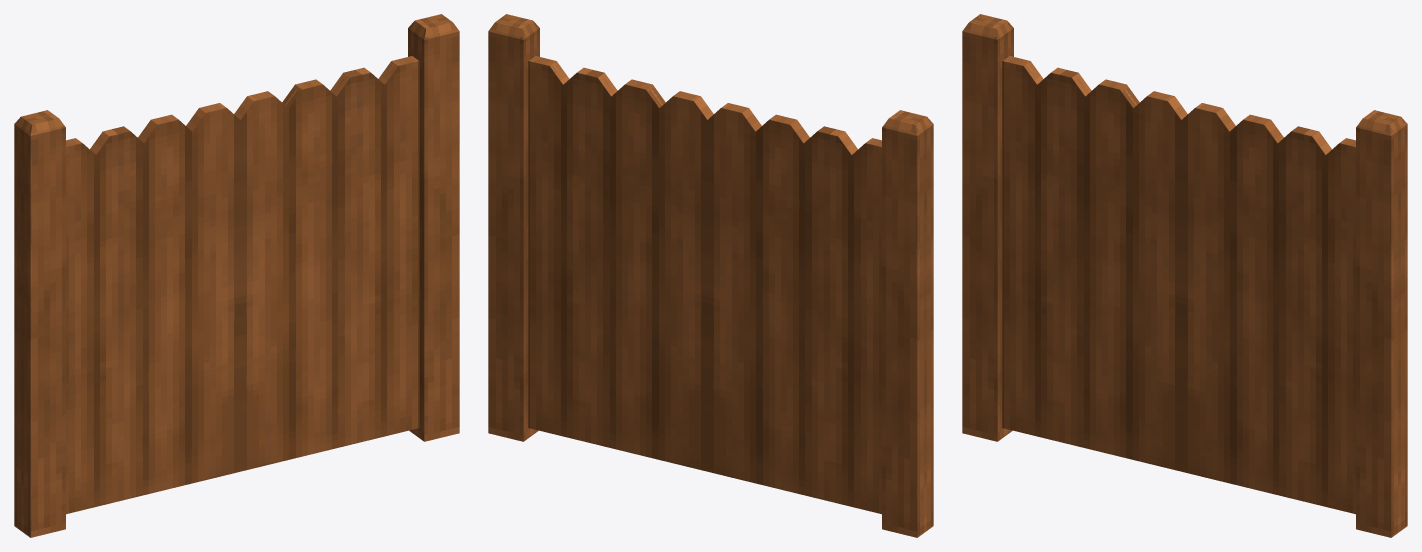
The model's file is fence1.glb.
The picture shows the model from 3 angles, left to right: view 1: azimuth 30°, elevation 25°; view 2: azimuth 150°, elevation 25°; view 3: azimuth 330°, elevation 25°; orthographic projection.
Parts seen in each view (by area): view 1: Cube.005; view 2: Cube.005; view 3: Cube.005.
Boxes of the visible parts, left/top/right/bottom form: Cube.005: left=14, top=14, right=459, bottom=537; Cube.005: left=488, top=14, right=933, bottom=537; Cube.005: left=962, top=14, right=1407, bottom=537.
Size of the model in its own units: 42.5 by 38.81 by 2.8.
Materials: 1 (1 with a texture image).
